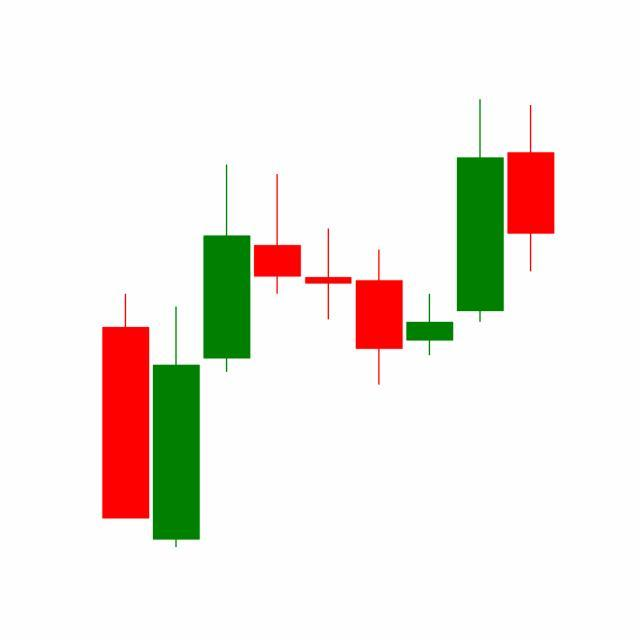Hikkake Pattern: (252, 100, 506, 390)
